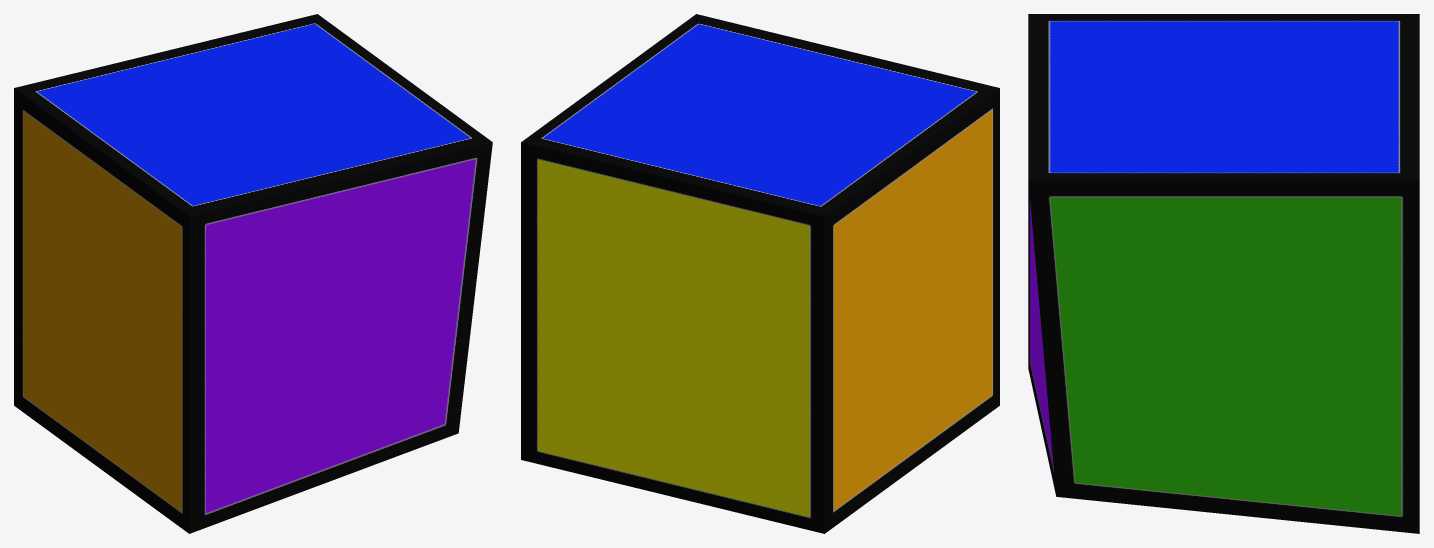
The picture shows the model from 3 angles, left to right: view 1: azimuth 30°, elevation 25°; view 2: azimuth 150°, elevation 25°; view 3: azimuth 270°, elevation 25°; orthographic projection. The views are drawn at different scales.
Parts seen in each view (by area): view 1: Cube; view 2: Cube; view 3: Cube.
Part boxes in pixels (x1,y1,x2,y2): Cube: (14,14,492,533); Cube: (521,14,999,533); Cube: (1028,14,1419,533).
Size of the model in its own units: 200 by 200 by 200.
